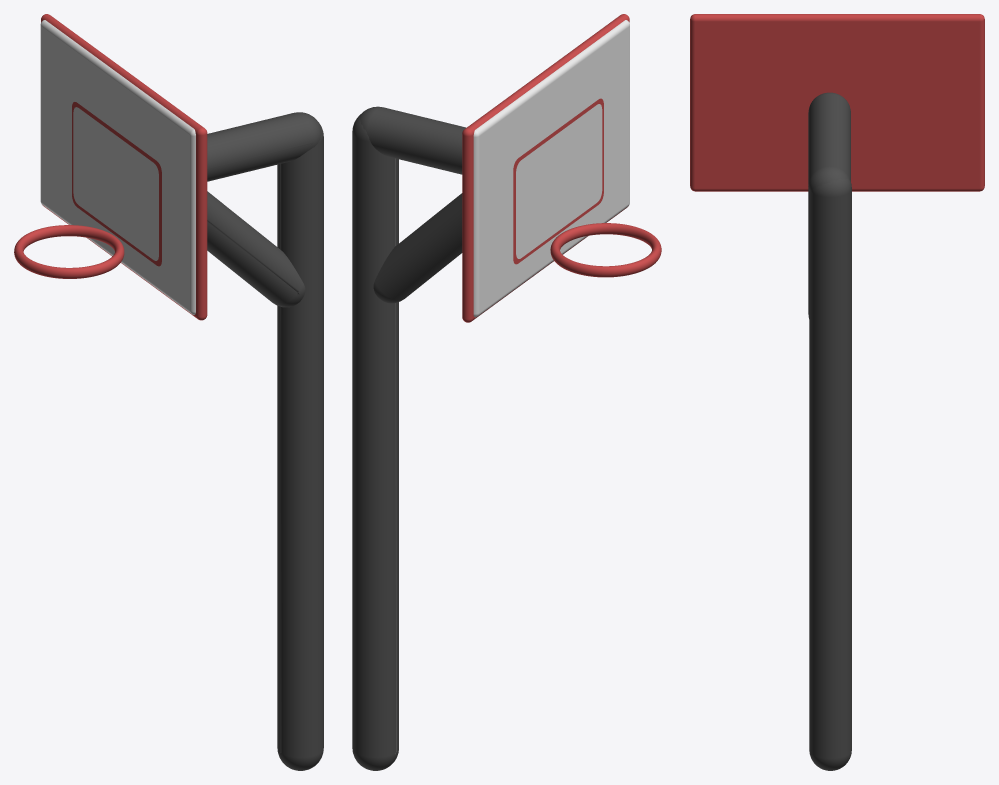
File: basketball-hoop.glb
3 views of the same model, side by side, from view 1: azimuth 30°, elevation 25°; view 2: azimuth 150°, elevation 25°; view 3: azimuth 270°, elevation 25° (orthographic). The views are drawn at different scales.
Visible parts, largest first — view 1: Cylinder, Cube 2, Rectangle 2, Cylinder 3, Cylinder 2, Cube.010, Torus.001, Rectangle; view 2: Cylinder, Cube 2, Rectangle 2, Cylinder 3, Cylinder 2, Cube.010, Torus.001, Rectangle; view 3: Cube.010, Cylinder, Cylinder 2.
Part boxes in pixels (box(x1,y1,x2,y2)): Cylinder: box(277, 124, 323, 770); Cube 2: box(40, 20, 195, 314); Rectangle 2: box(73, 107, 158, 260); Cylinder 3: box(207, 191, 305, 307); Cylinder 2: box(207, 112, 321, 181); Cube.010: box(41, 14, 207, 320); Torus.001: box(14, 225, 124, 278); Rectangle: box(72, 102, 161, 266); Cylinder: box(352, 114, 398, 770); Cube 2: box(473, 20, 629, 317); Rectangle 2: box(516, 104, 602, 258); Cylinder 3: box(373, 193, 462, 303); Cylinder 2: box(359, 106, 465, 174); Cube.010: box(462, 14, 629, 322); Torus.001: box(550, 223, 661, 277); Rectangle: box(513, 98, 603, 264); Cube.010: box(690, 14, 984, 191); Cylinder: box(809, 178, 851, 770); Cylinder 2: box(808, 92, 850, 191).
Bounding box in the file's own units: 0.8988 × 2.13 × 0.8385.
